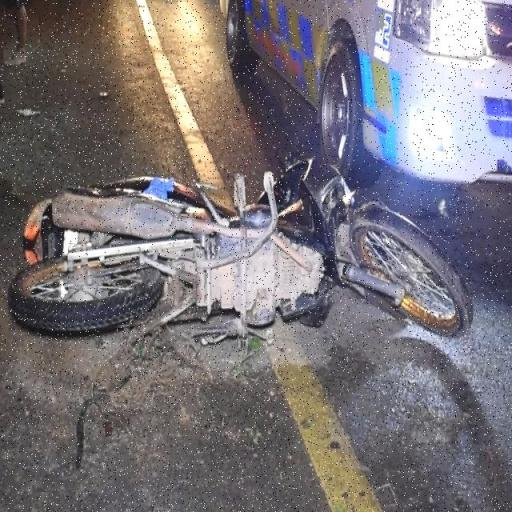小汽车撞自行车: (42, 0, 512, 328)
